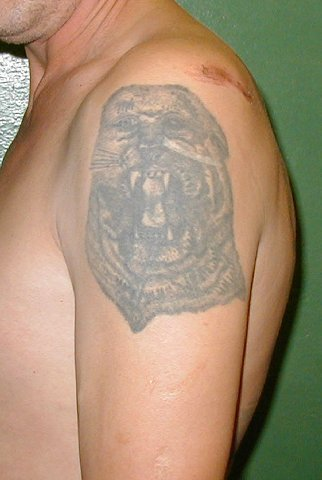tatu5_tigr: (82, 86, 245, 313)
